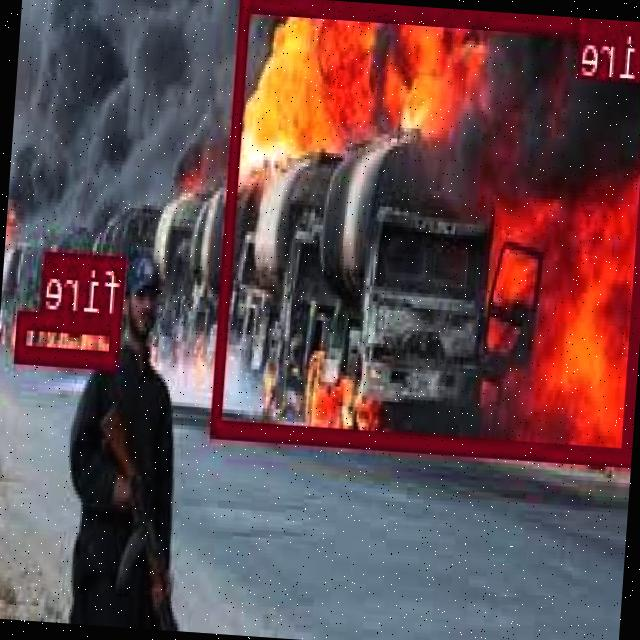fire: (212, 0, 640, 460), (17, 307, 123, 364)
